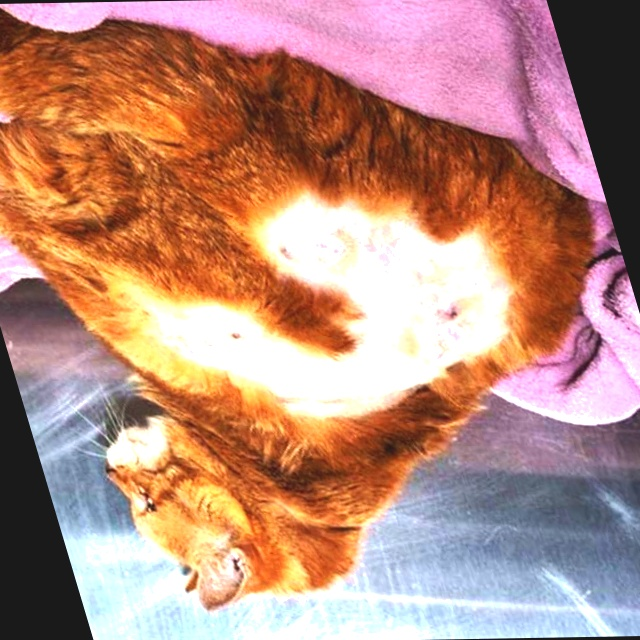hairloss: (143, 229, 527, 426)
